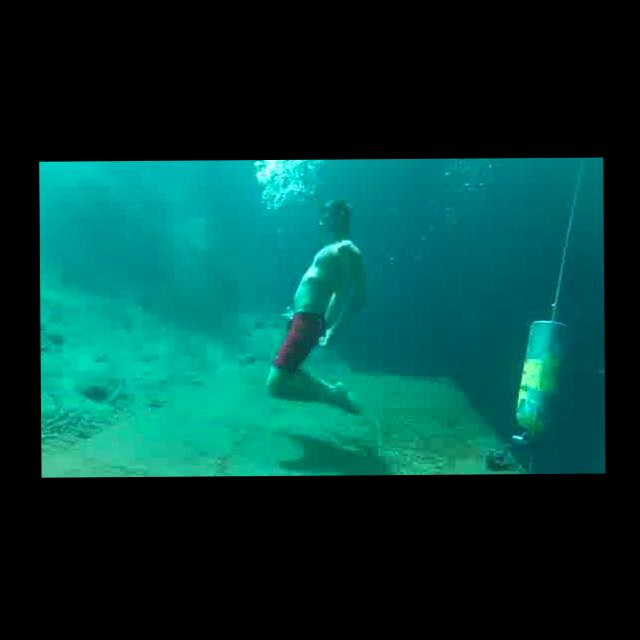human: (262, 195, 368, 426)
